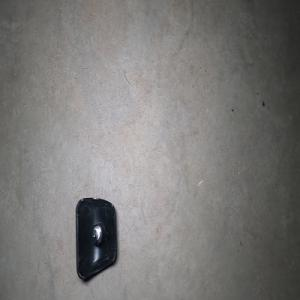LuggagePart: (74, 196, 117, 281)
